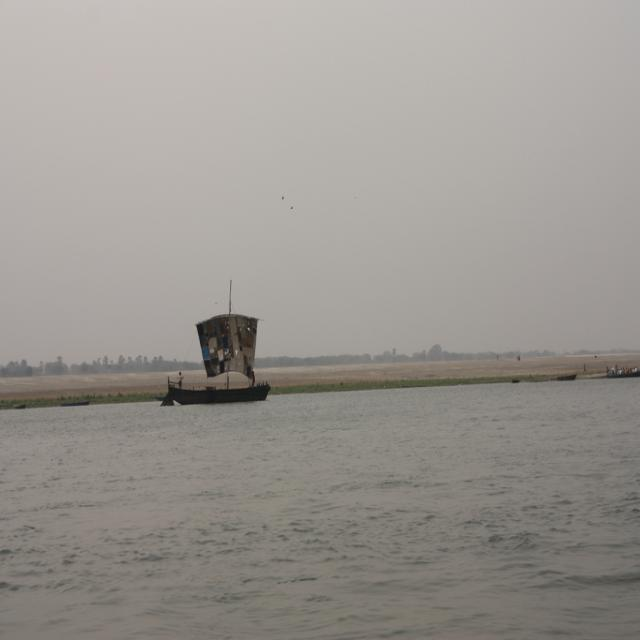Boat: (164, 289, 280, 403), (604, 365, 640, 379), (60, 397, 90, 406), (552, 372, 578, 380), (14, 402, 26, 412), (511, 380, 518, 386)
